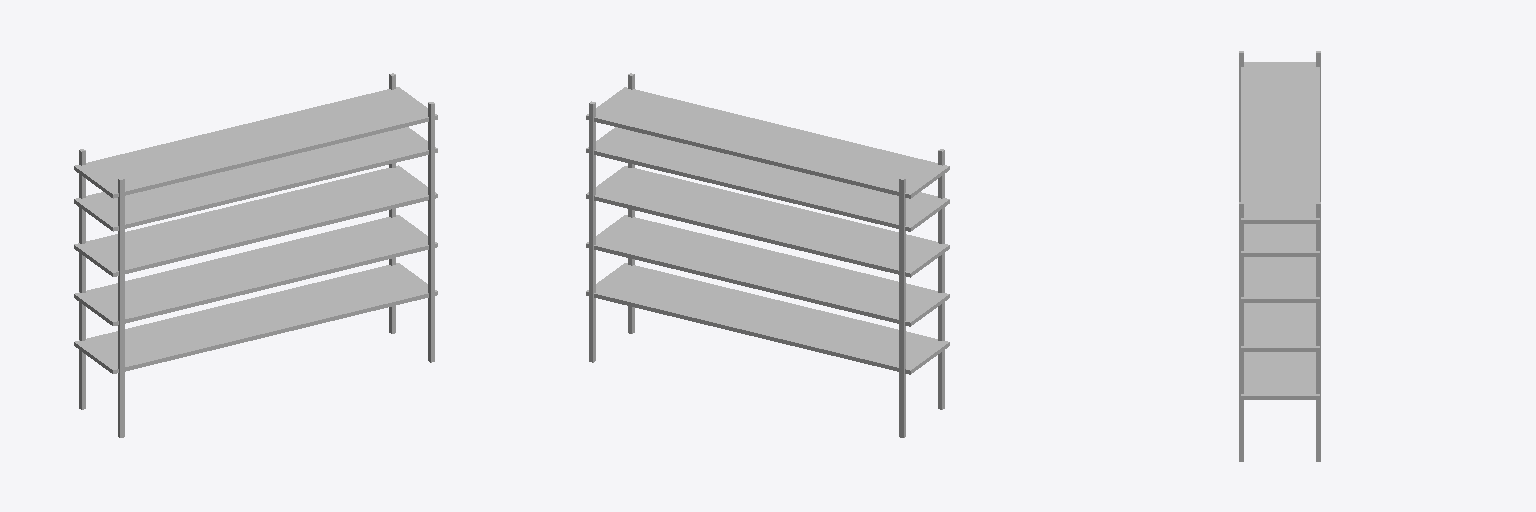
File: shelf_new.obj
3 renders of one model, left to right at view 1: azimuth 30°, elevation 25°; view 2: azimuth 150°, elevation 25°; view 3: azimuth 270°, elevation 25°, orthographic.
Visible parts, largest first — view 1: mixamorig_Shelf; view 2: mixamorig_Shelf; view 3: mixamorig_Shelf.
Part boxes in pixels (left/top/right/bottom): mixamorig_Shelf: left=74, top=73, right=437, bottom=437; mixamorig_Shelf: left=586, top=73, right=949, bottom=437; mixamorig_Shelf: left=1239, top=51, right=1320, bottom=461.
Bounding box in the file's own units: 144 × 110 × 31.91.